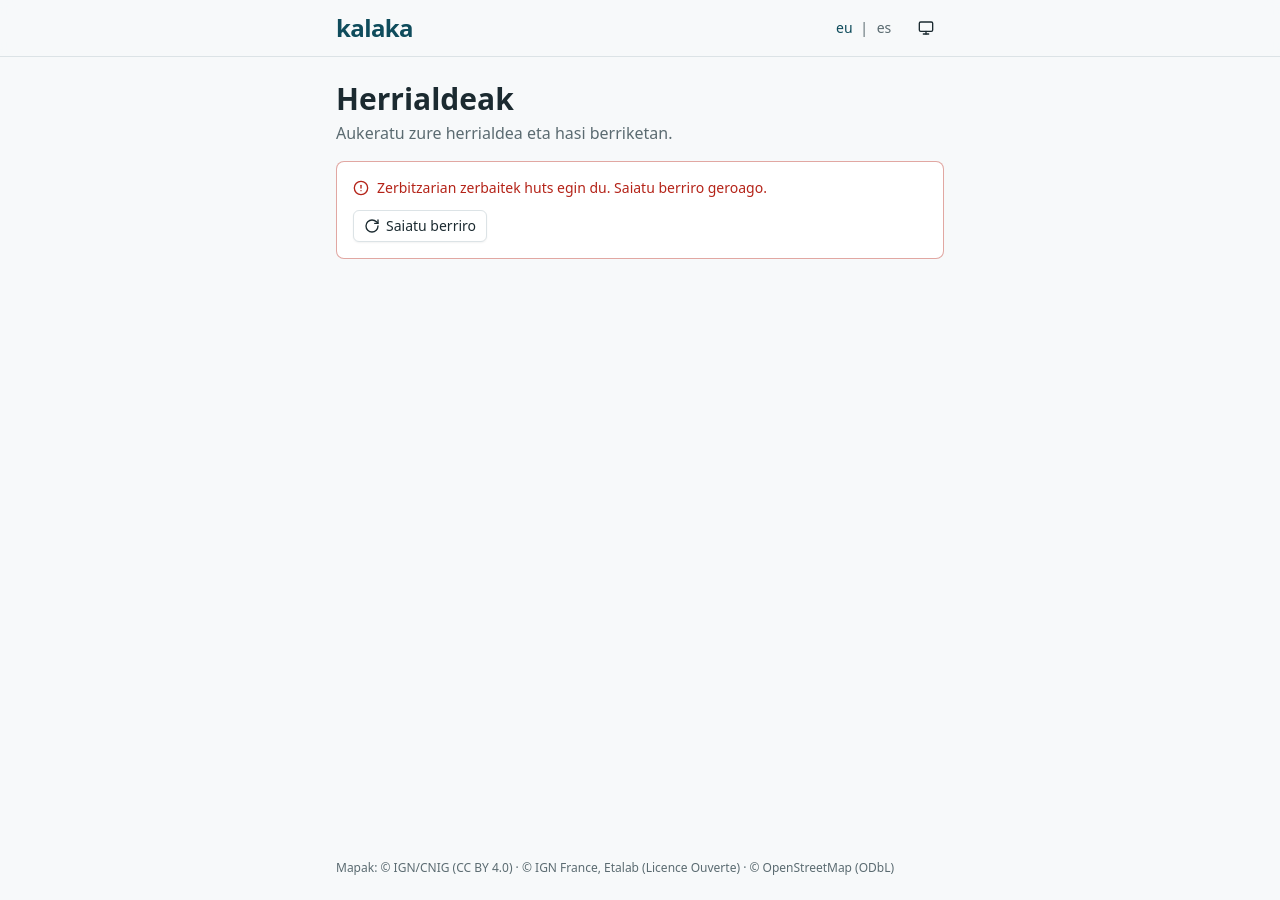
Test case: provinces screen › shows a translated error, never the API text, and retries
expect the message shows "Zerbitzarian zerbaitek huts egin du. Saiatu berriro geroago.": met, box [377,178,767,197]
Click the button "Saiatu berriro".
click(420, 226)  # box [353,210,487,242]
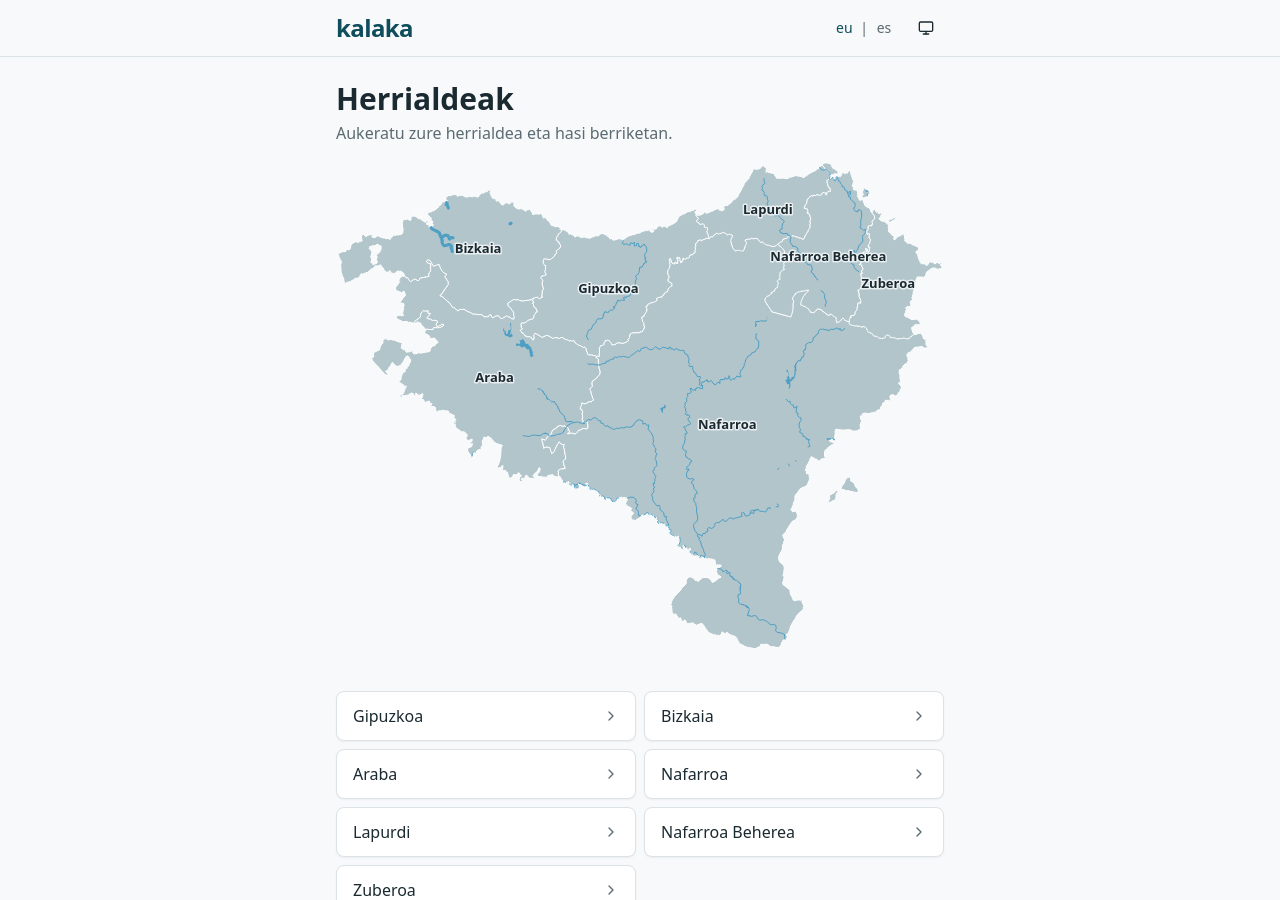
expect the link "Gipuzkoa" is shown: met, box [336,691,636,741]
